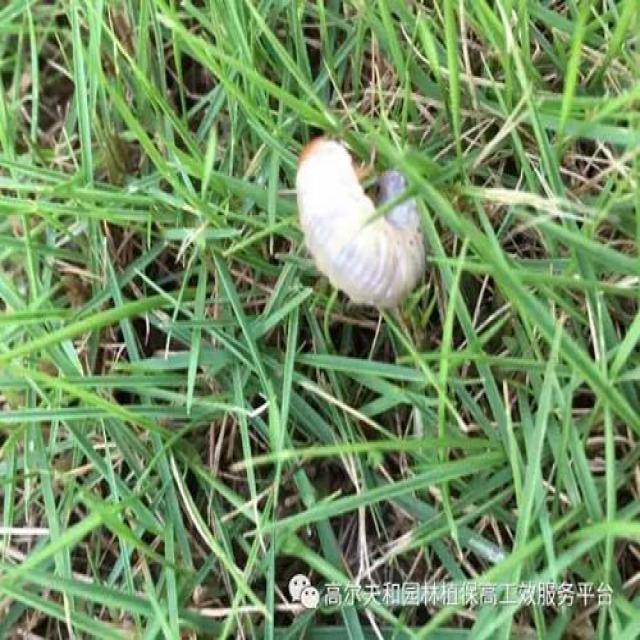Grub-Adult-: (287, 134, 434, 316)
